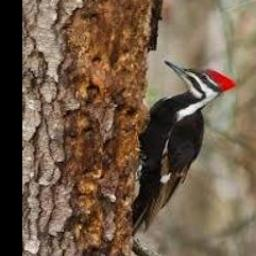Woodpecker: (131, 61, 235, 235)
